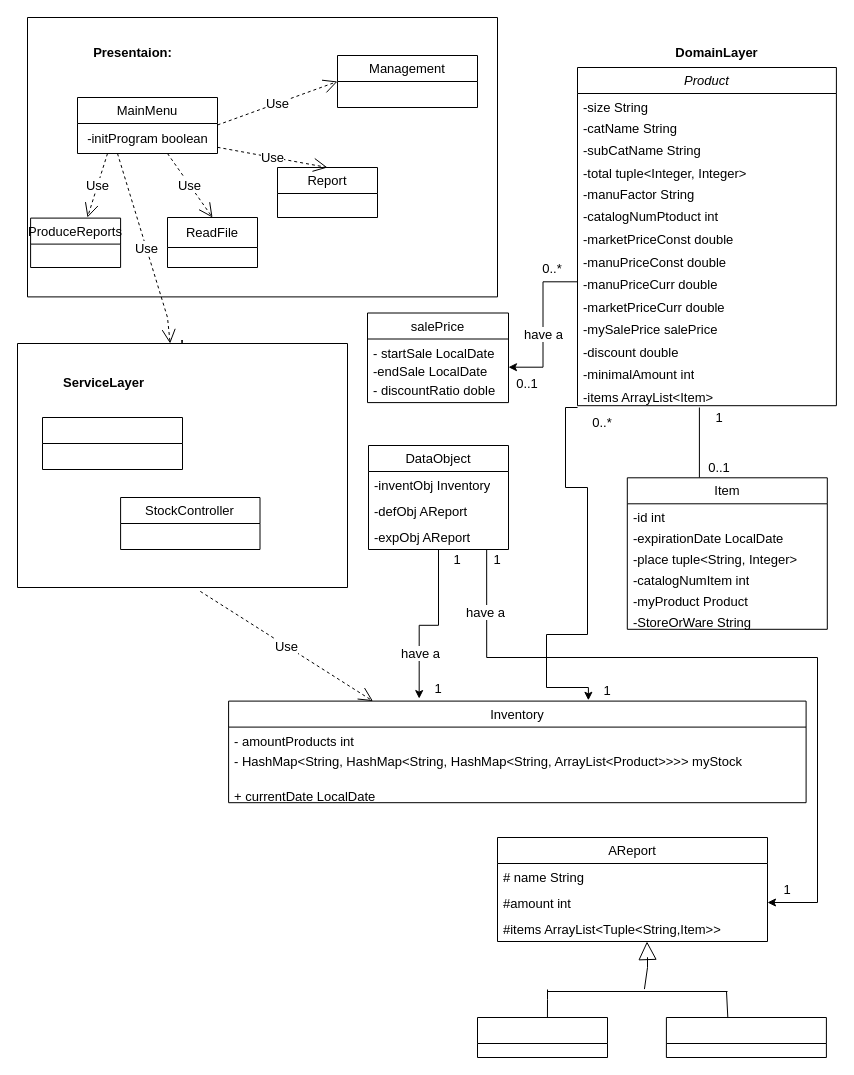
The diagram is 854 pixels wide and 1075 high, and some of its shapes have lost their labels. Each missing label, with the centre of its shape:
"Defective" belongs at point (542, 1037).
"Expirated" belongs at point (745, 1037).
"ProductController" belongs at point (112, 443).
